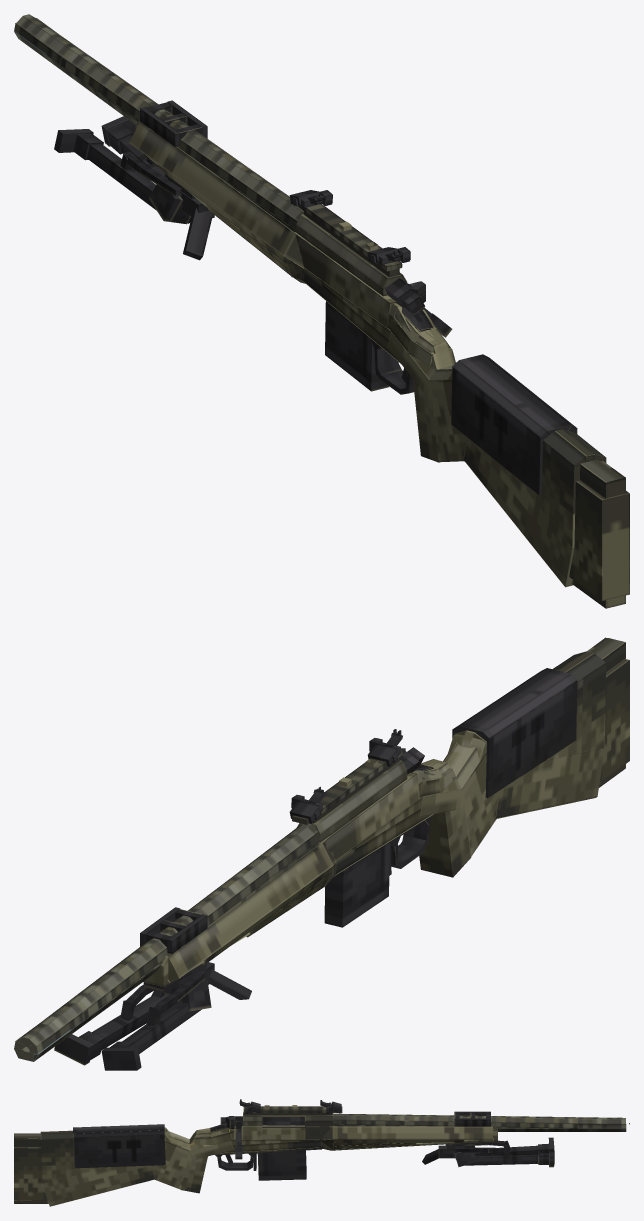
3 views of the same model, one above another, from view 1: azimuth 30°, elevation 25°; view 2: azimuth 150°, elevation 25°; view 3: azimuth 270°, elevation 25° (orthographic). The views are drawn at different scales.
Parts seen in each view (by area): view 1: gun_144, soL, magazine_1, soC, bolt2_4, soR; view 2: gun_144, magazine_1, soL, soR, soC, ironsights_9, ironsights_17; view 3: gun_144, magazine_1, soR, bolt2_4, soC, soL, ironsights_9, ironsights_17.
Part boxes in pixels (box(x1,y1,x2,y2)): gun_144: box(14, 14, 629, 608); soL: box(54, 129, 181, 210); magazine_1: box(325, 301, 389, 391); soC: box(149, 175, 214, 260); bolt2_4: box(385, 278, 452, 337); soR: box(101, 116, 165, 176); gun_144: box(14, 637, 629, 1061); magazine_1: box(324, 843, 389, 927); soL: box(101, 971, 205, 1070); soR: box(54, 985, 168, 1065); soC: box(151, 962, 251, 1011); ironsights_9: box(367, 729, 402, 766); ironsights_17: box(289, 786, 325, 823); gun_144: box(14, 1106, 626, 1206); magazine_1: box(257, 1150, 306, 1180); soR: box(455, 1147, 554, 1167); bolt2_4: box(220, 1116, 304, 1159); soC: box(422, 1144, 476, 1167); soL: box(475, 1137, 554, 1156); ironsights_9: box(239, 1099, 260, 1113); ironsights_17: box(320, 1100, 341, 1113).
Size of the model in its own units: 0.7107 by 1.47 by 8.
